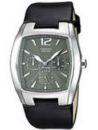watch: (12, 20, 85, 107)
